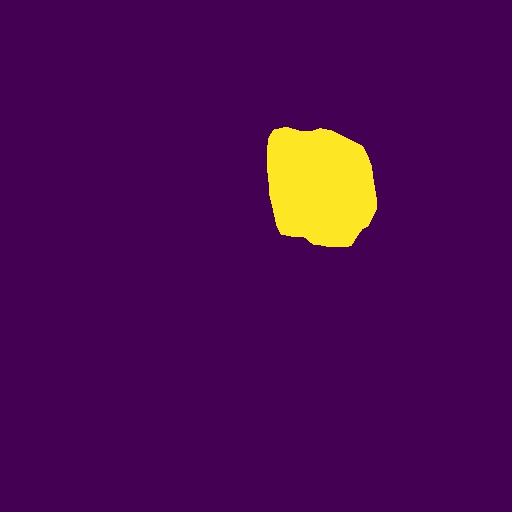Menigiomia_tumour: (267, 127, 377, 247)
